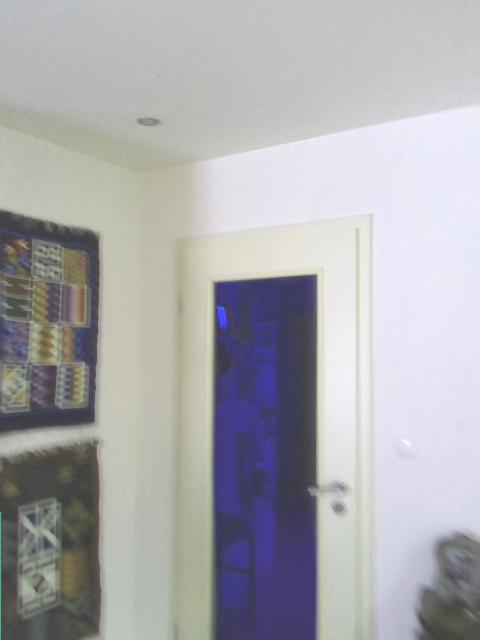closed_door: (171, 214, 373, 639)
